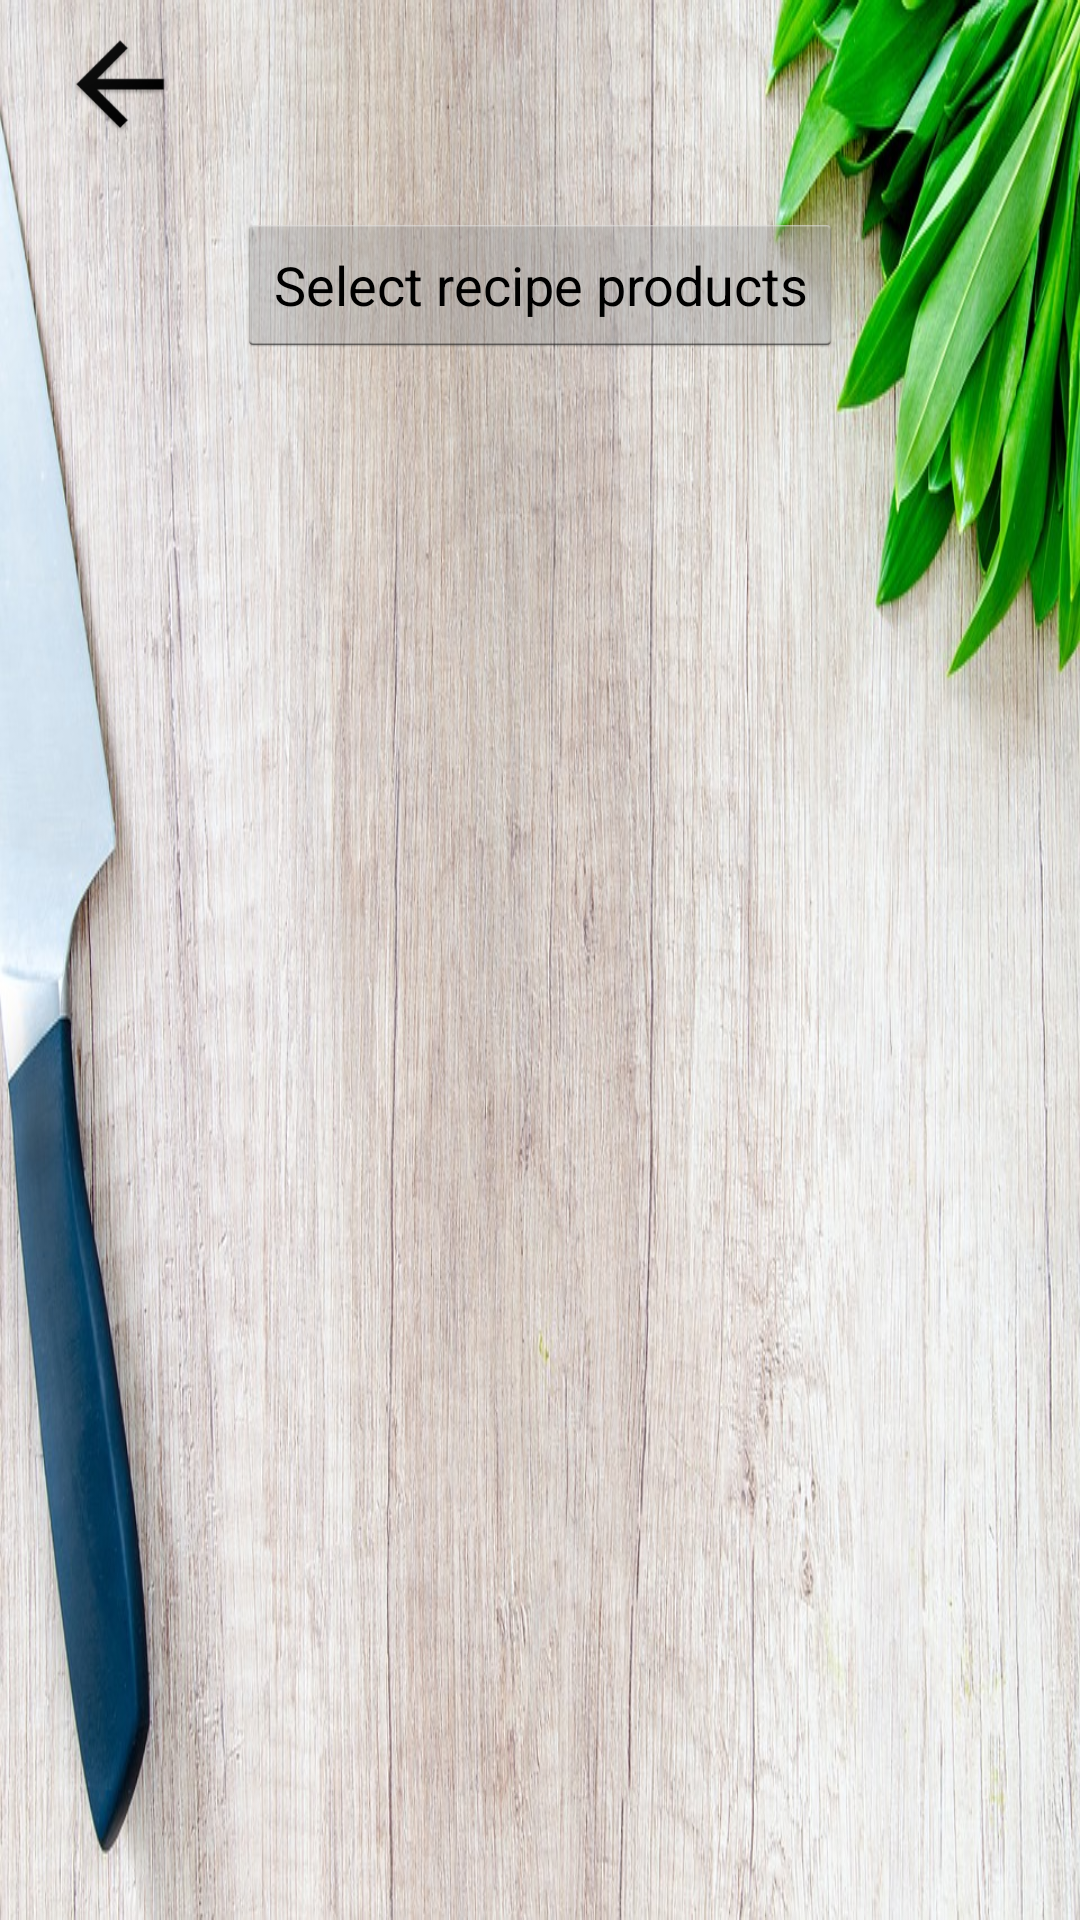

Icons on this 1080px×1920px Android screen, each with the point to tap as (x,y):
back: (121,84)
